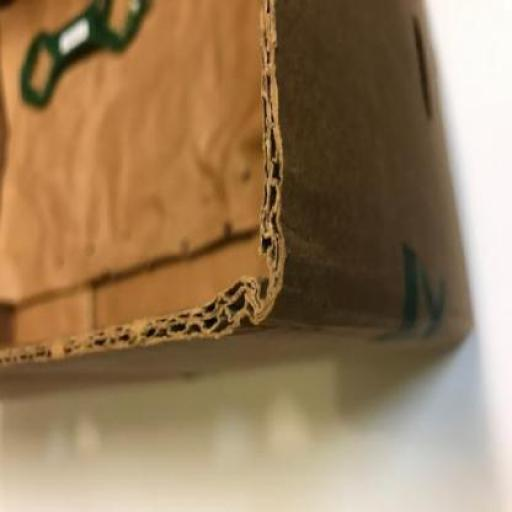cardboard: (0, 0, 474, 399)
